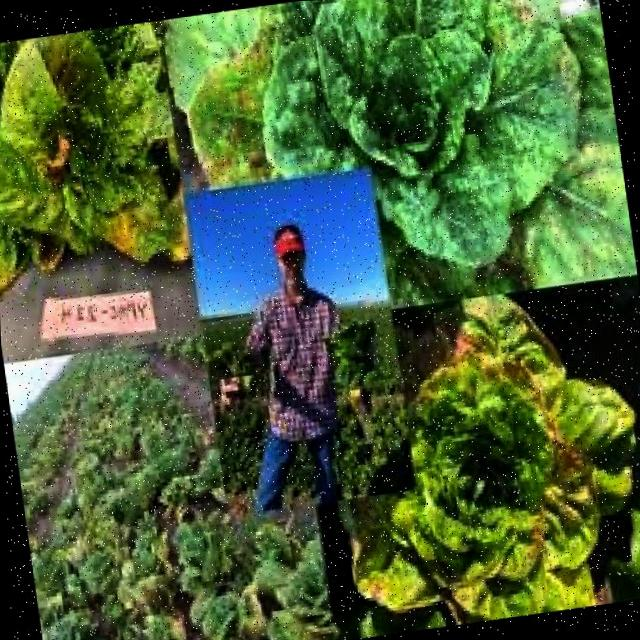Lettuce Mosaic Virus: (399, 309, 636, 624), (0, 43, 179, 286)
